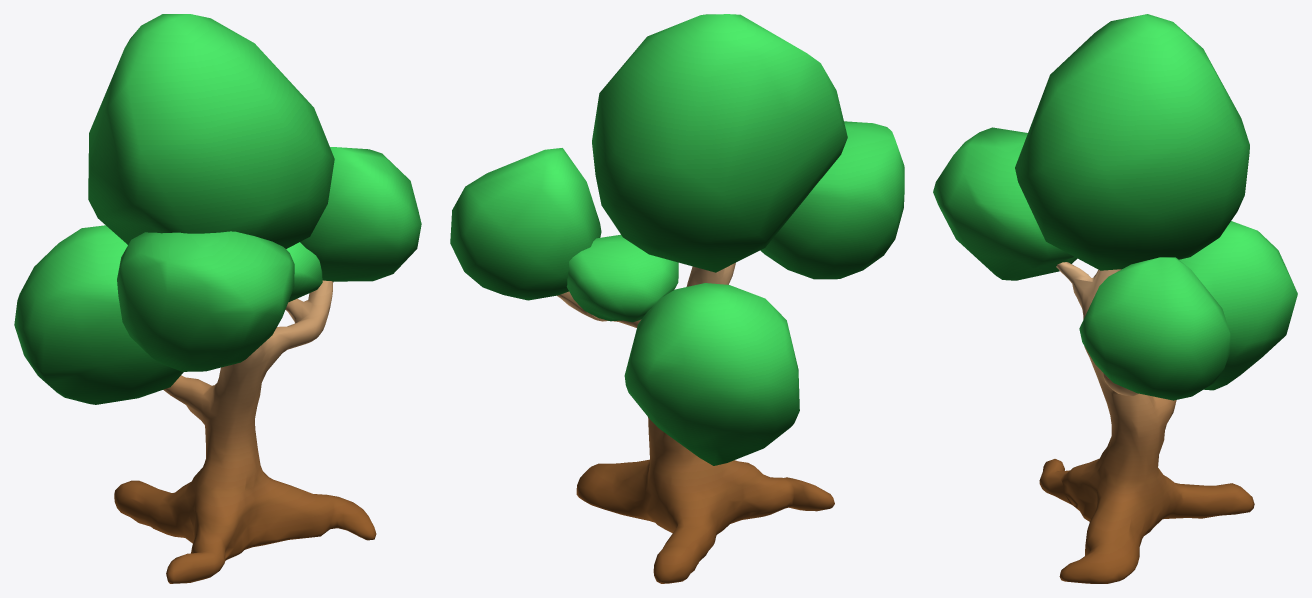
Rendered from Tree2 B1G1.fbx.
3 renders of one model, left to right at view 1: azimuth 30°, elevation 25°; view 2: azimuth 150°, elevation 25°; view 3: azimuth 270°, elevation 25°, orthographic. The views are drawn at different scales.
Visible parts, largest first — view 1: Tree2 Leaves.002, Tree2 B1, Tree2 Leaves, Tree2 Leaves.004, Tree2 Leaves.003, Tree2 Leaves.001; view 2: Tree2 Leaves.002, Tree2 Leaves.004, Tree2 B1, Tree2 Leaves.003, Tree2 Leaves, Tree2 Leaves.001; view 3: Tree2 Leaves.002, Tree2 B1, Tree2 Leaves.003, Tree2 Leaves, Tree2 Leaves.004.
Boxes of the visible parts, x1,y1,x2,y2 form: Tree2 Leaves.002: (88,14,334,248); Tree2 B1: (114,280,376,583); Tree2 Leaves: (117,231,294,371); Tree2 Leaves.004: (14,225,183,404); Tree2 Leaves.003: (300,147,421,281); Tree2 Leaves.001: (286,242,322,302); Tree2 Leaves.002: (592,14,847,272); Tree2 Leaves.004: (624,283,799,465); Tree2 B1: (557,262,834,583); Tree2 Leaves.003: (450,148,601,300); Tree2 Leaves: (760,121,904,279); Tree2 Leaves.001: (566,234,678,322); Tree2 Leaves.002: (1015,14,1249,270); Tree2 B1: (1039,262,1254,583); Tree2 Leaves.003: (1079,257,1230,400); Tree2 Leaves: (933,127,1077,280); Tree2 Leaves.004: (1179,221,1297,390).
Size of the model in its own units: 24.04 by 22.53 by 33.79.
